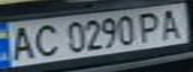0: (63, 18, 87, 54), (115, 12, 139, 46)
2: (81, 16, 106, 52)
9: (100, 15, 121, 49)
A: (3, 24, 39, 62), (154, 6, 187, 39)
C: (27, 21, 63, 59)
P: (136, 9, 166, 44)
